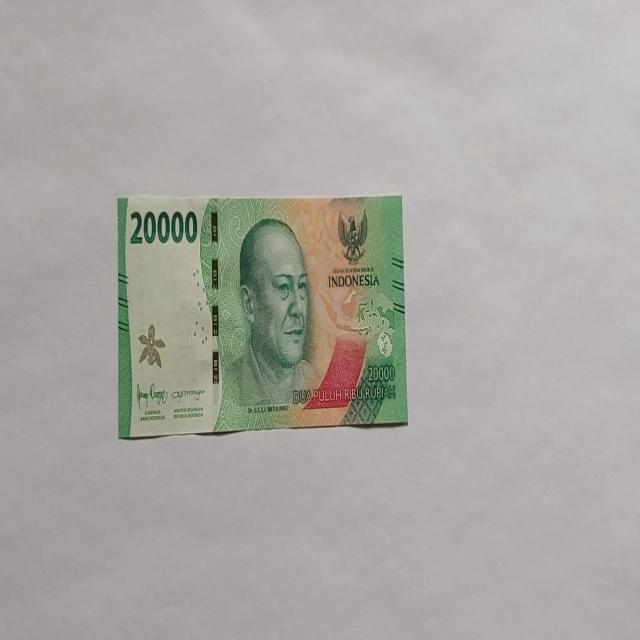dua puluh ribu rupiah: (116, 192, 408, 439), (214, 215, 324, 430)
